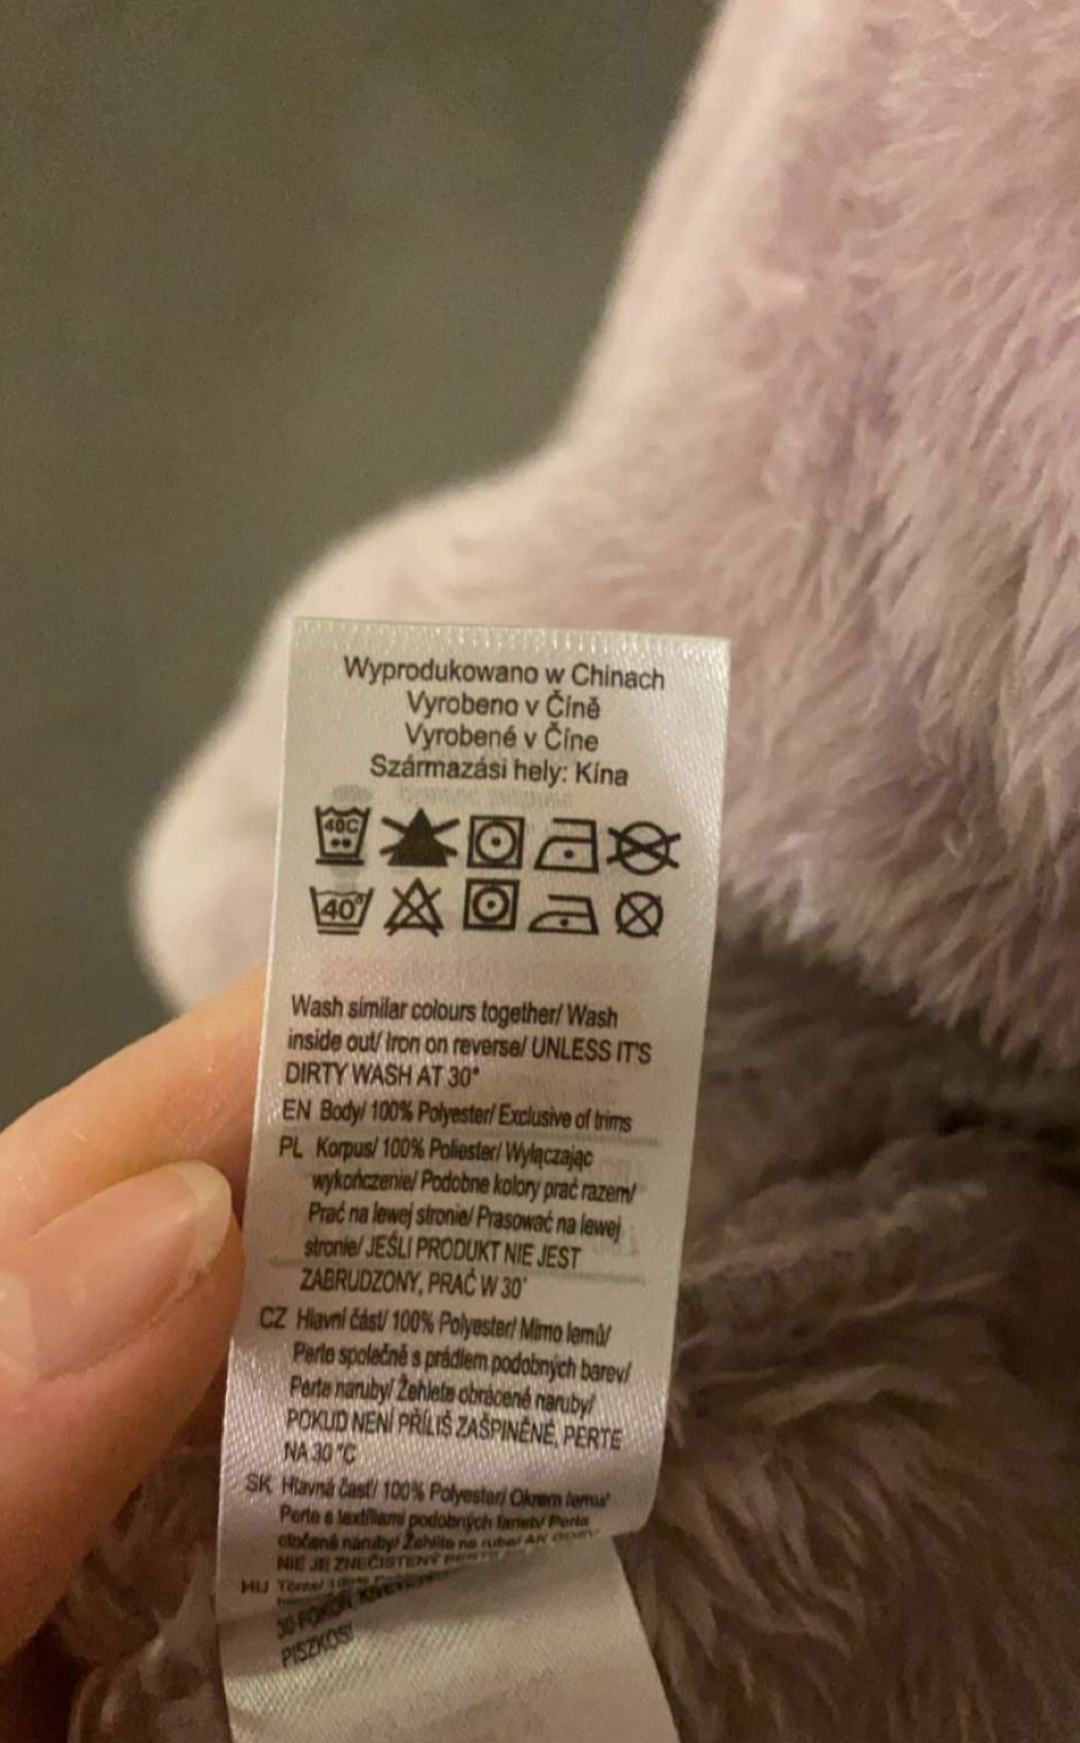do not bleach: (387, 876, 455, 951)
do not dry clean: (614, 881, 673, 956)
iron low temp: (533, 880, 609, 966)
tumble dry low temp: (452, 867, 527, 952)
wash at or below 40: (298, 874, 380, 956)
